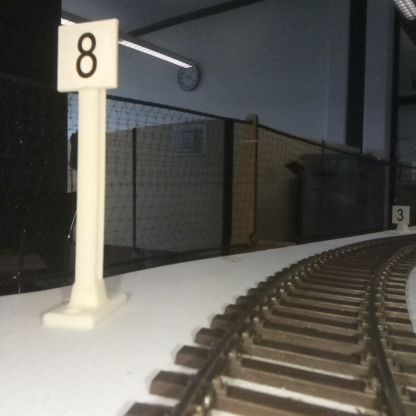white-info-8: (58, 19, 117, 326)
white-stop-3: (392, 205, 409, 232)
